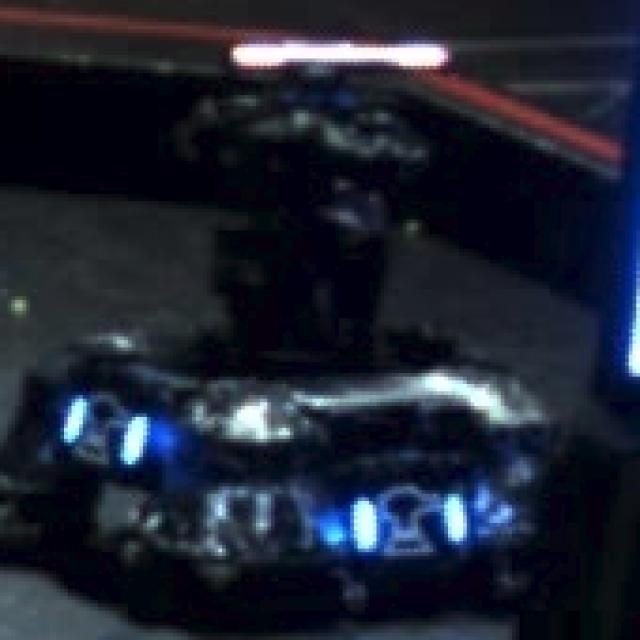Bs: (346, 486, 478, 556), (60, 398, 147, 464)
